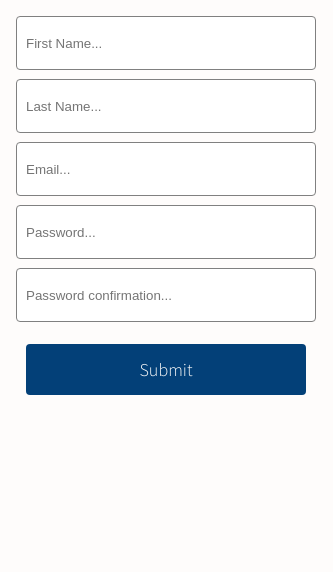
Scenario: RegisterForm tests › gives a note every input field where the data is missing
Note: Simulate a user clicking the "submit" button without entering any data
Click the button with test id "signup-submit": (166, 369) [26, 344, 306, 395]
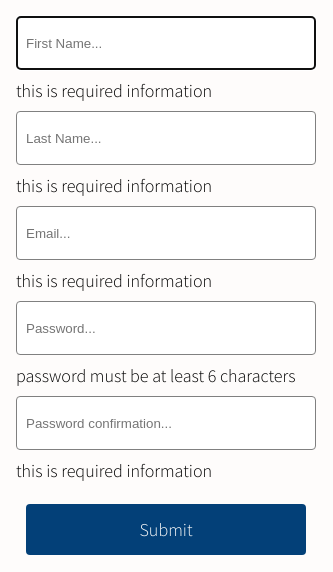
Expected: the text with test id "firstname-info" is shown, [16, 79, 212, 102]
Expected: the text with test id "lastname-info" is shown, [16, 174, 212, 197]
Expected: the text with test id "email-info" is shown, [16, 269, 212, 292]
